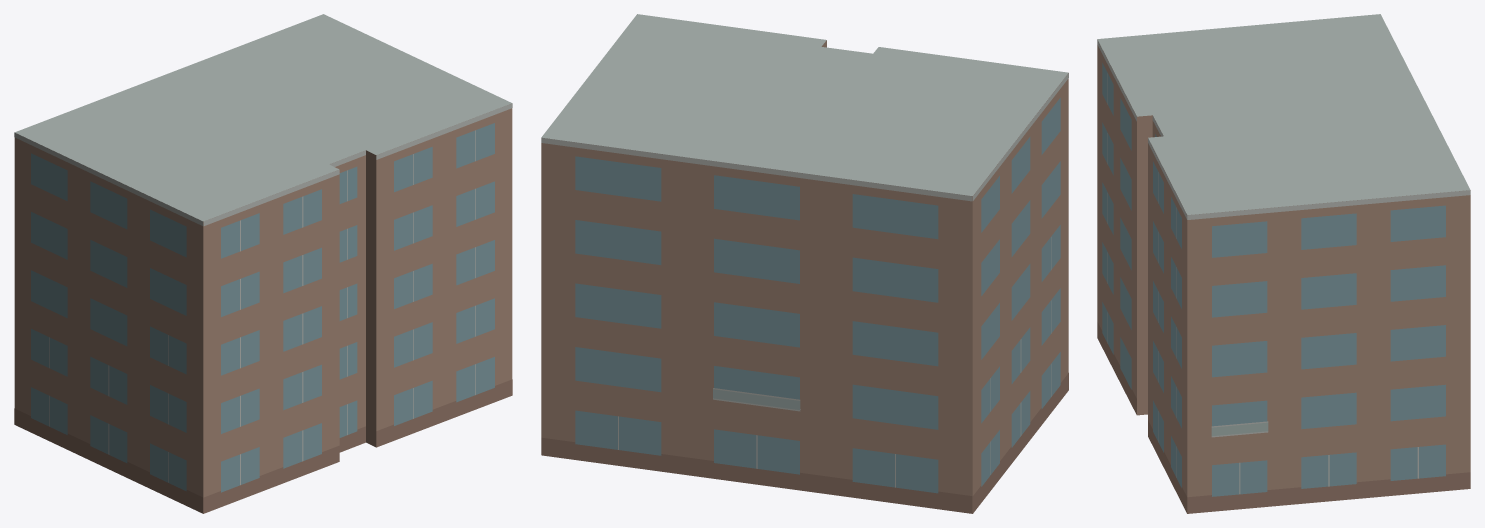
The model's file is survey-upis-32697681.glb.
The picture shows the model from 3 angles, left to right: view 1: azimuth 30°, elevation 25°; view 2: azimuth 150°, elevation 25°; view 3: azimuth 270°, elevation 25°; orthographic projection. The views are drawn at different scales.
Parts seen in each view (by area): view 1: survey-upis-32697681.tmp; view 2: survey-upis-32697681.tmp; view 3: survey-upis-32697681.tmp.
Boxes of the visible parts, x1=… form: survey-upis-32697681.tmp: x1=14, y1=14, x2=512, y2=513; survey-upis-32697681.tmp: x1=541, y1=14, x2=1068, y2=513; survey-upis-32697681.tmp: x1=1097, y1=14, x2=1470, y2=513.
Size of the model in its own units: 21.09 by 14.6 by 16.55.
